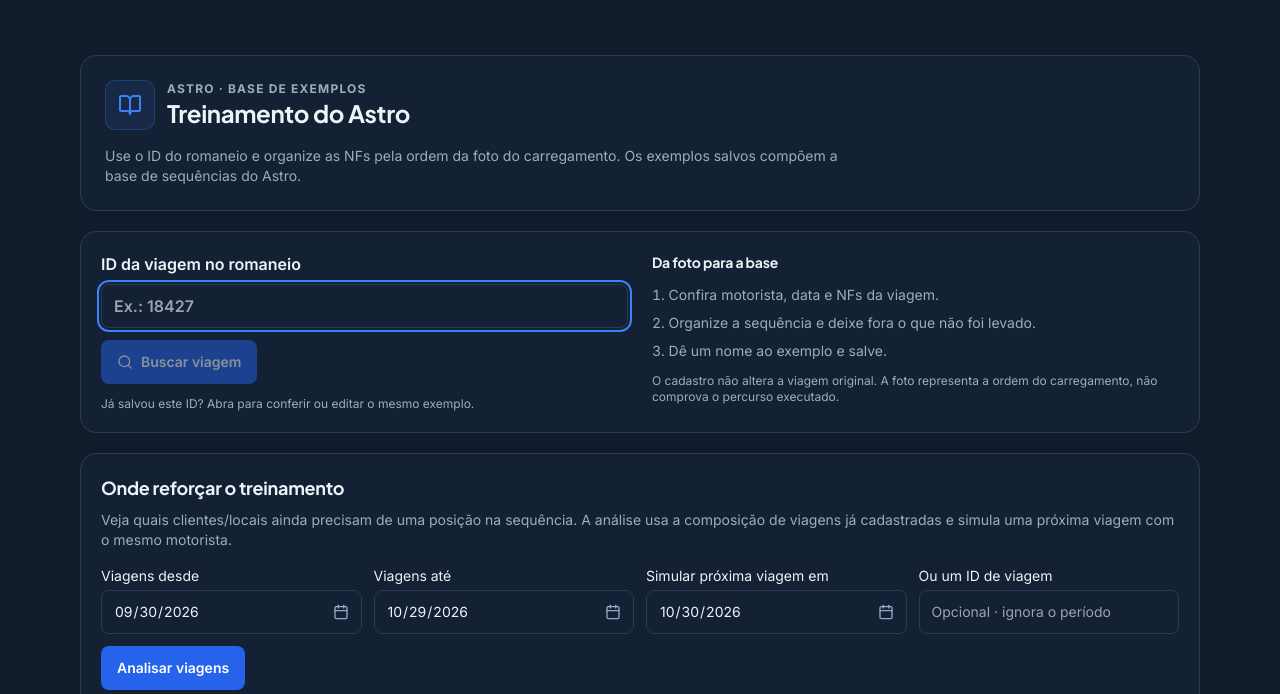
bloqueia duplo salvamento enquanto aguarda confirmação
Type "128" into the field labelled "ID da viagem". click: point(364, 306)
box: [101,284,628,328]
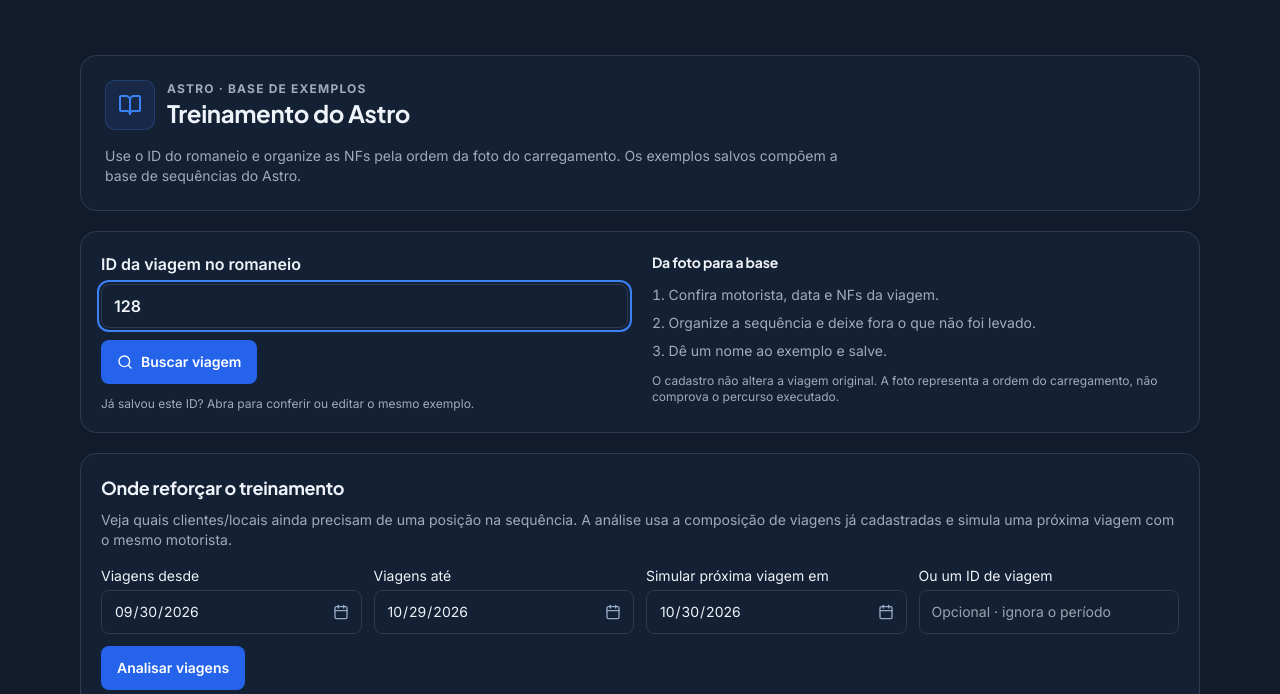
Click the button "Buscar viagem". click: point(179, 362)
box: [101,340,258,384]
(page scrolled)
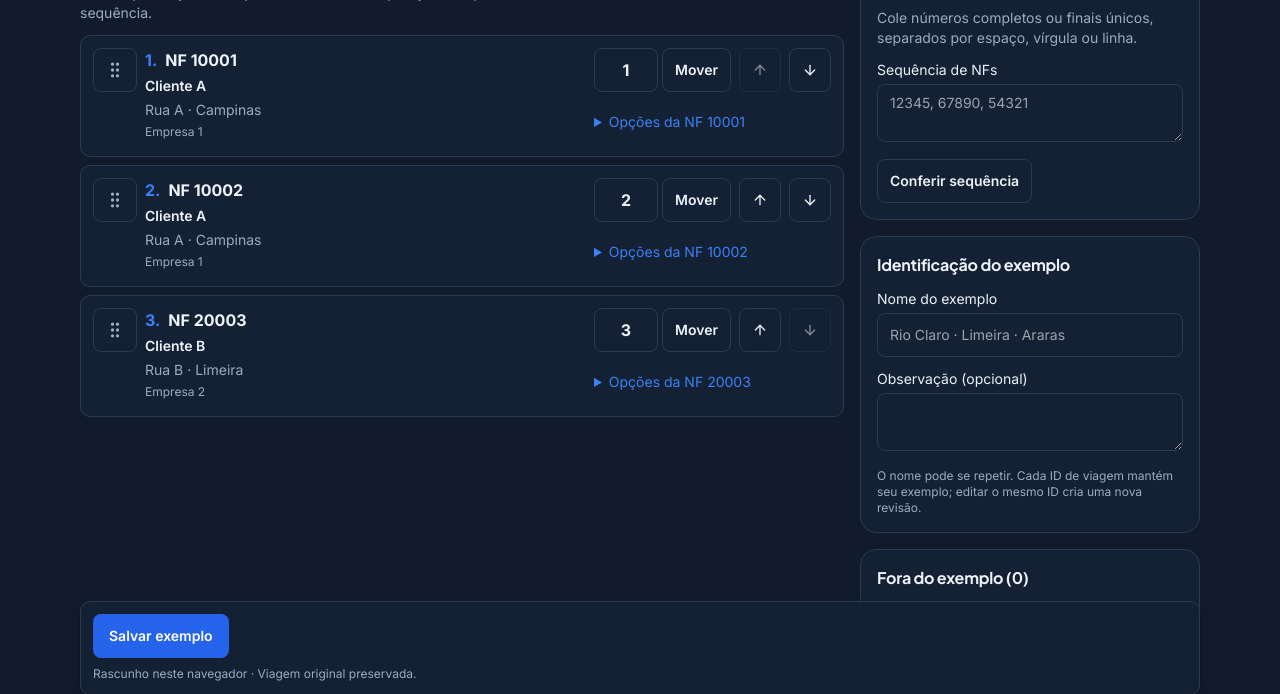
Type "Circuito de teste" into the field labelled "Nome do exemplo". click: point(1030, 335)
box: [877,313,1183,357]
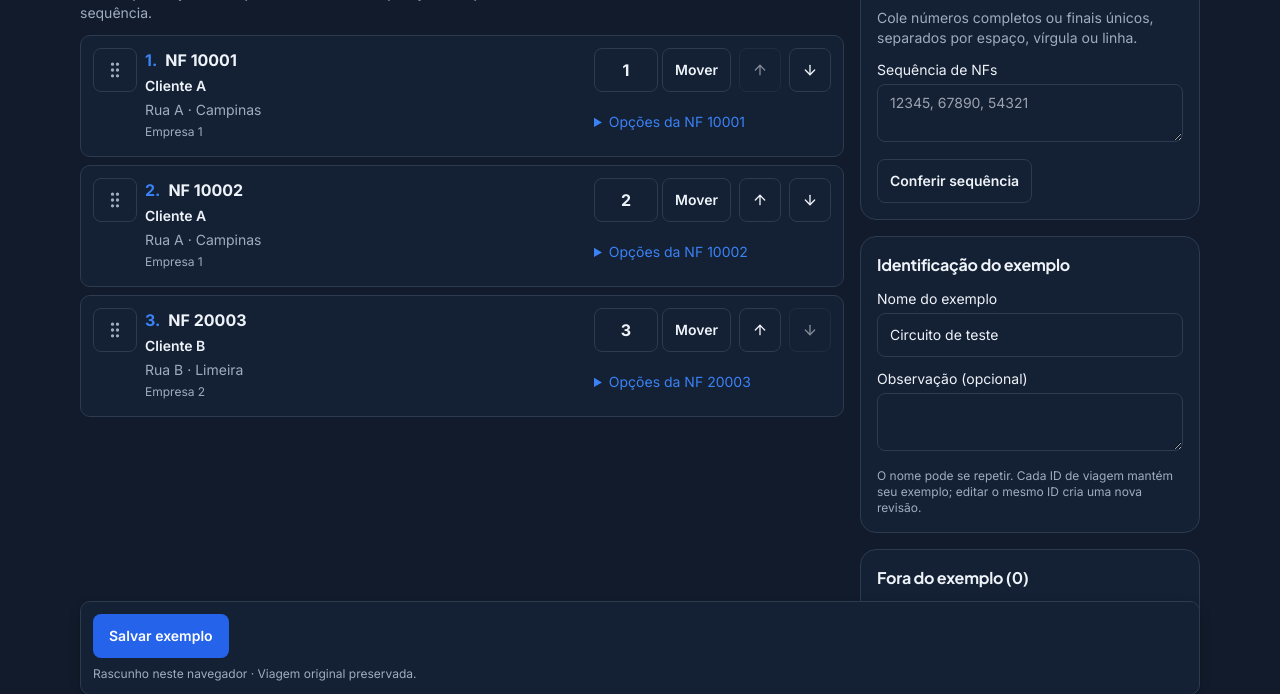
Click the button "Salvar exemplo". click: point(161, 636)
box: [93,614,229,658]
(page scrolled)
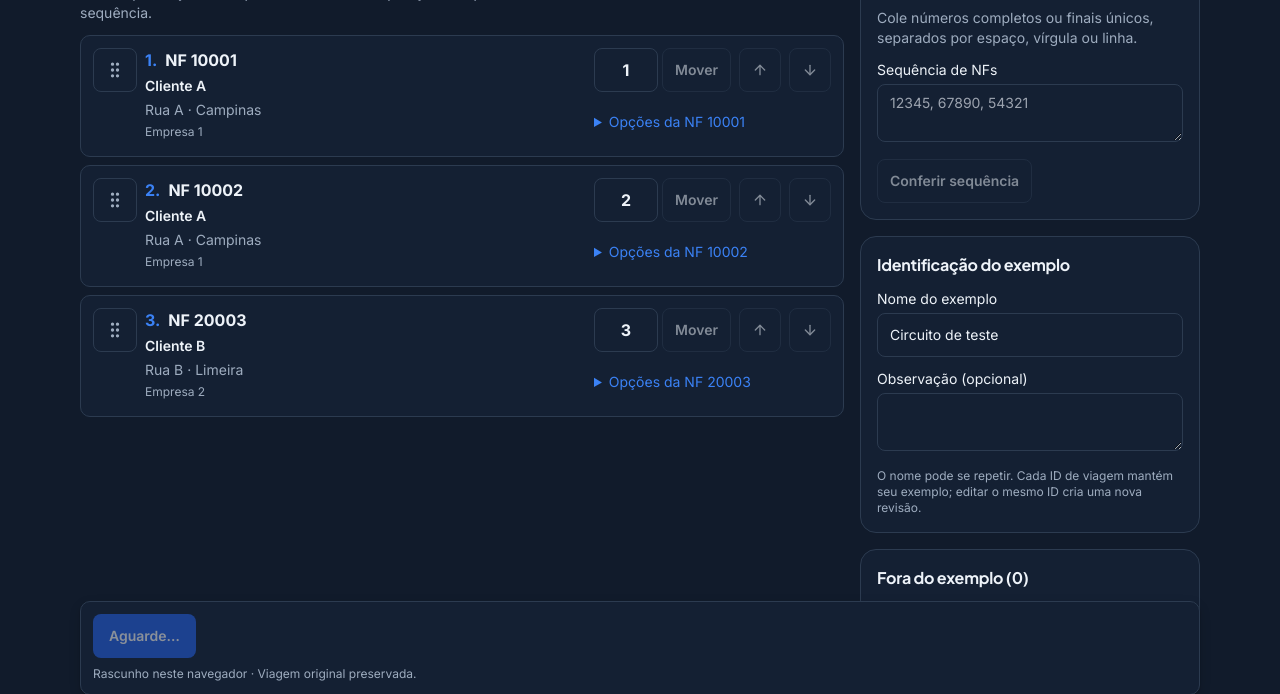
Click the button named "Salvar exemplo". click: point(144, 636)
box: [93,614,196,658]
(page scrolled)
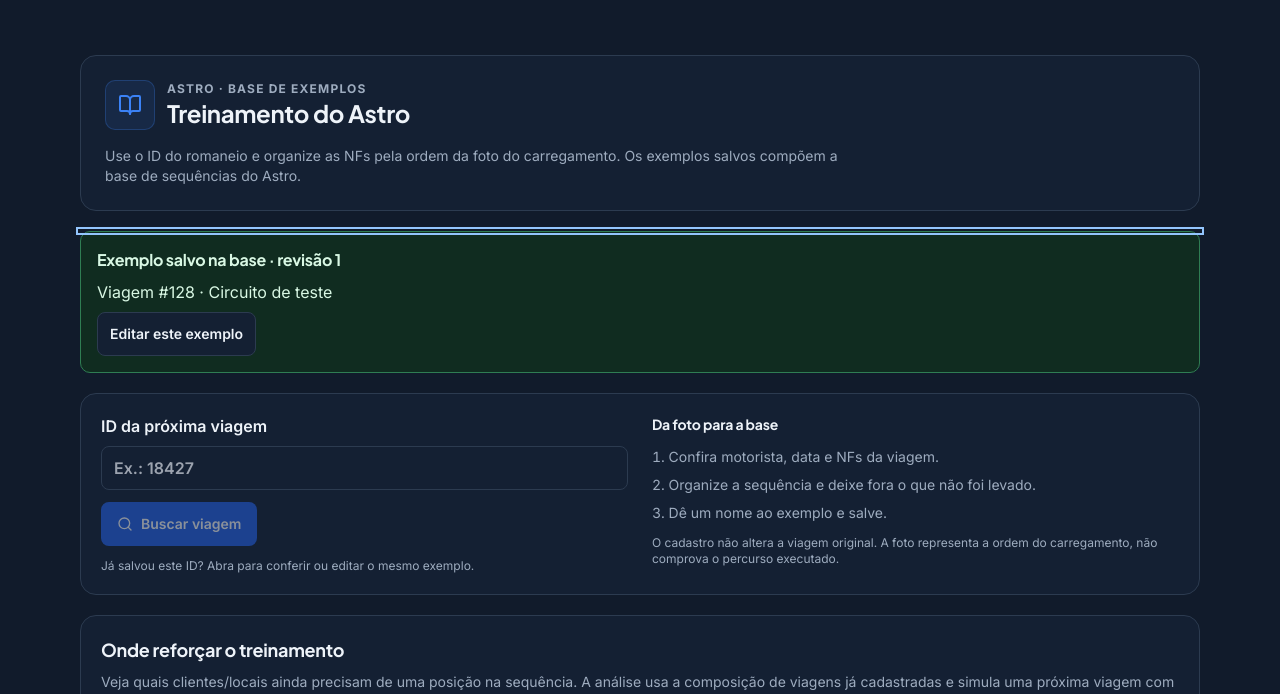
Now the heading "Exemplo salvo na base · revisão 1" is shown, box [97,248,341,272]
